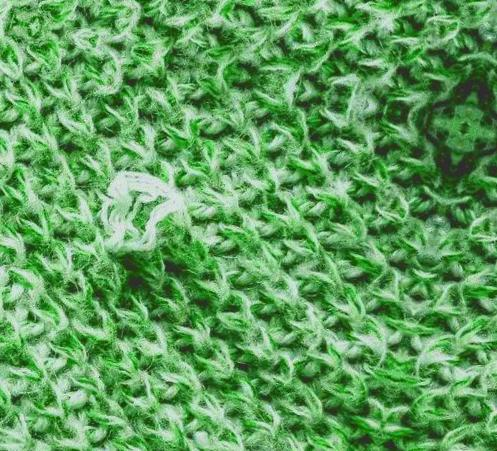snag: (92, 166, 191, 270)
